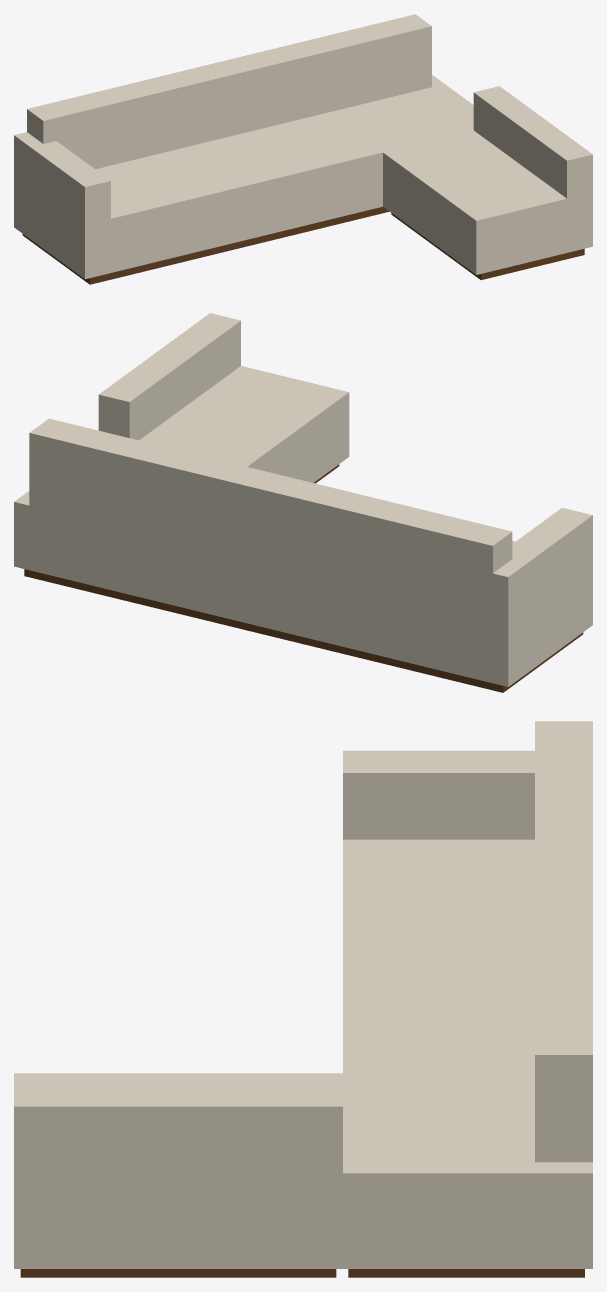
File: sala-guinea.glb
3 views of the same model, one above another, from view 1: azimuth 30°, elevation 25°; view 2: azimuth 150°, elevation 25°; view 3: azimuth 270°, elevation 25° (orthographic). The views are drawn at different scales.
Parts seen in each view (by area): view 1: sala-guinea; view 2: sala-guinea; view 3: sala-guinea.
Boxes of the visible parts, box(x1,y1,x2,y2) form: sala-guinea: box(14, 14, 592, 284); sala-guinea: box(14, 313, 592, 692); sala-guinea: box(14, 721, 592, 1277).
Size of the model in its own units: 3.2 by 0.91 by 2.2.
